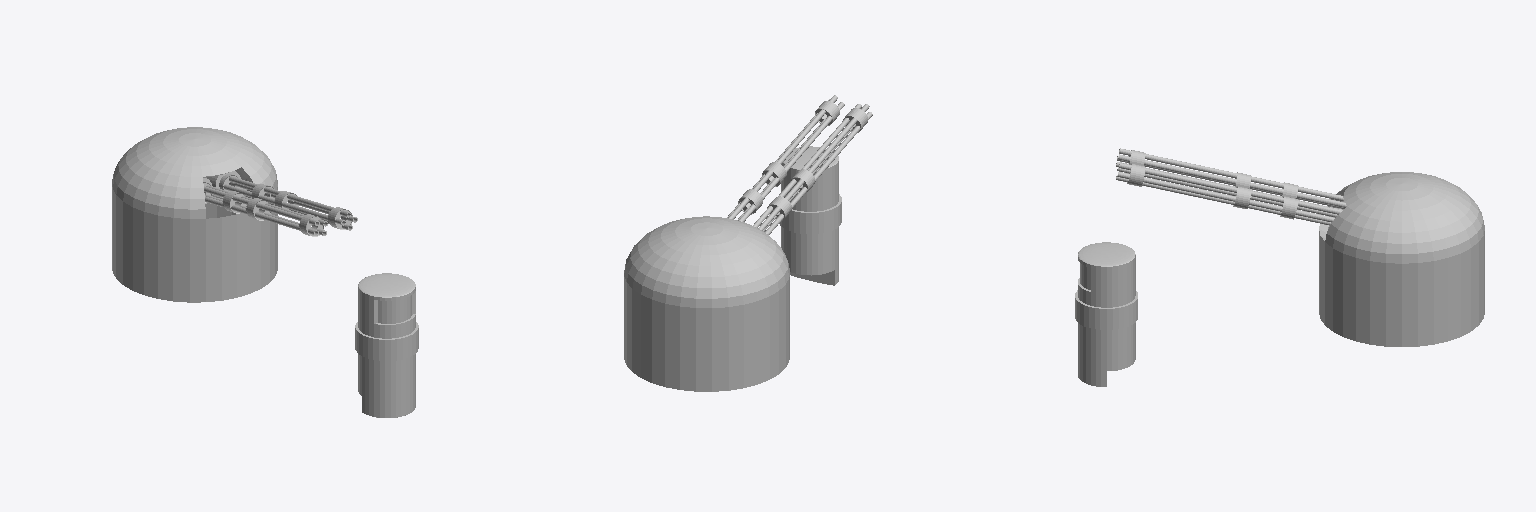
The model's file is gunModel.obj.
The picture shows the model from 3 angles: view 1: azimuth 30°, elevation 25°; view 2: azimuth 150°, elevation 25°; view 3: azimuth 270°, elevation 25°; orthographic projection.
Parts seen in each view (by area): view 1: Sphere.001; view 2: Sphere.001; view 3: Sphere.001.
Boxes of the visible parts, x1,y1,x2,y2 form: Sphere.001: [112, 127, 418, 417]; Sphere.001: [624, 95, 872, 391]; Sphere.001: [1075, 148, 1484, 386].
Size of the model in its own units: 5.76 by 7.58 by 14.2.